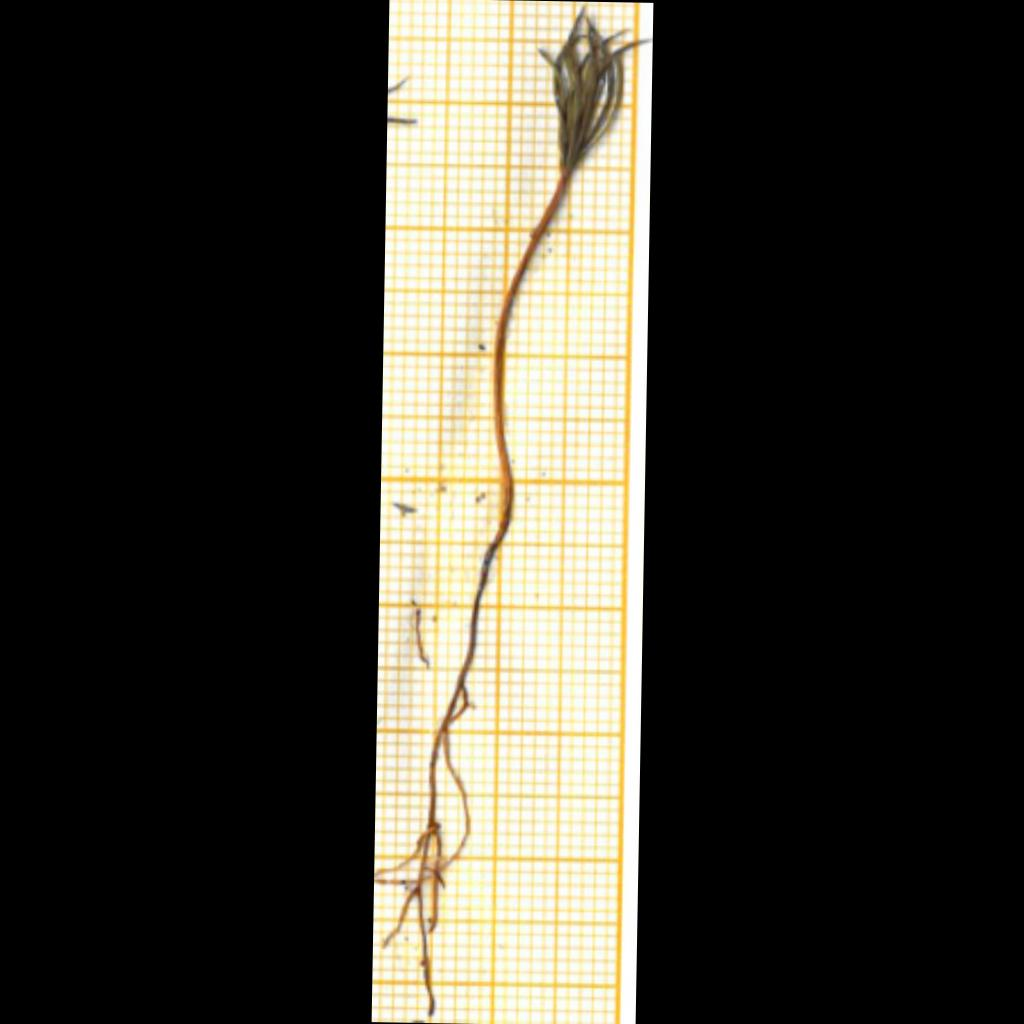rootPinus: (385, 519, 508, 1016)
stemCedr: (540, 11, 648, 174)
stemPinus: (493, 168, 565, 516)
